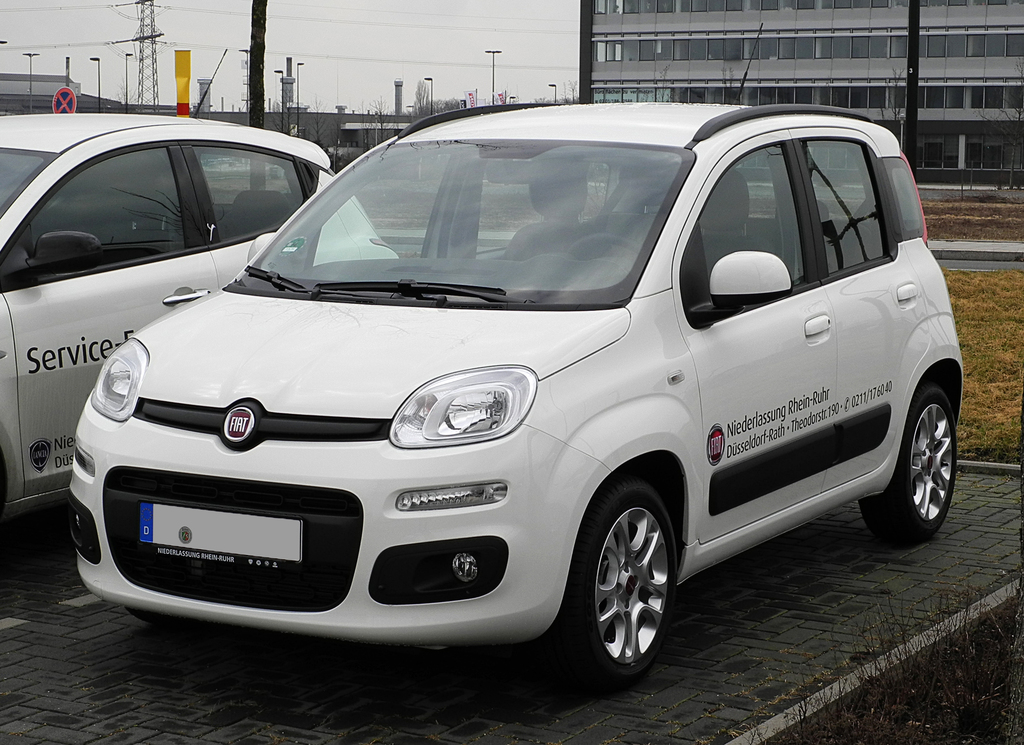Car: (53, 103, 965, 687), (0, 115, 394, 522)
